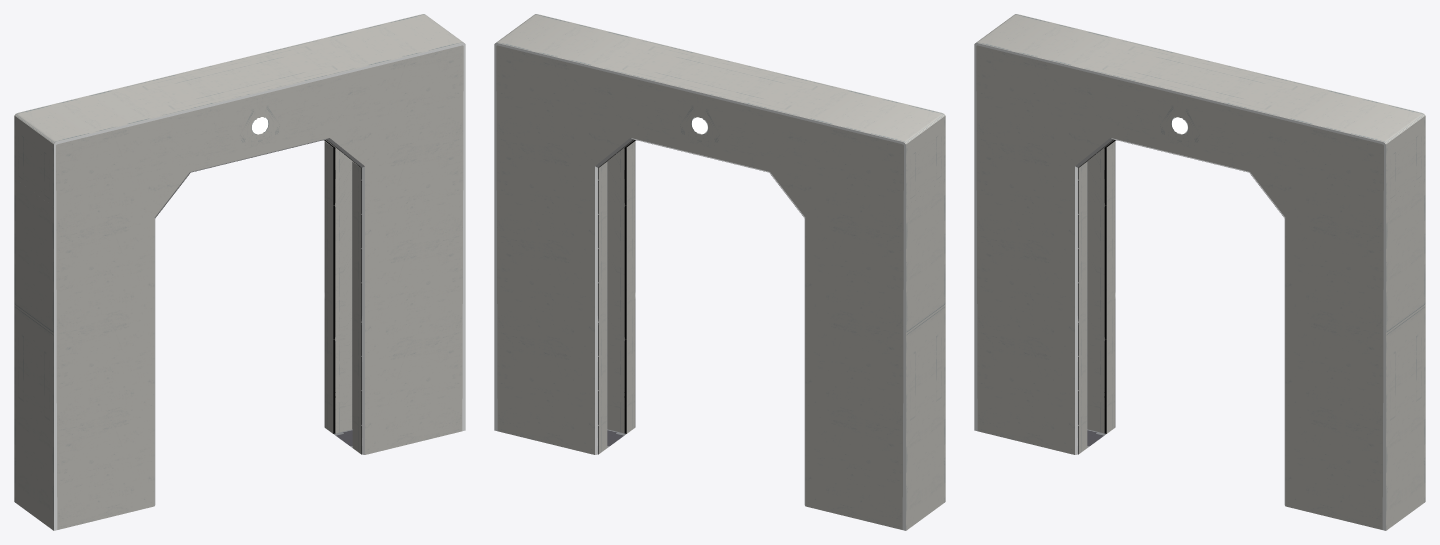
The model's file is G_Env_Arch_DoorBlock_00_Plain.fbx.
3 renders of one model, left to right at view 1: azimuth 30°, elevation 25°; view 2: azimuth 150°, elevation 25°; view 3: azimuth 330°, elevation 25°, orthographic.
Visible parts, largest first — view 1: G_Env_Arch_DoorBlock_00_Plain; view 2: G_Env_Arch_DoorBlock_00_Plain; view 3: G_Env_Arch_DoorBlock_00_Plain.
Part boxes in pixels (box(x1,y1,x2,y2)): G_Env_Arch_DoorBlock_00_Plain: box(14, 14, 465, 530); G_Env_Arch_DoorBlock_00_Plain: box(494, 14, 945, 530); G_Env_Arch_DoorBlock_00_Plain: box(974, 14, 1425, 530).
Size of the model in its own units: 999 by 900 by 170.
